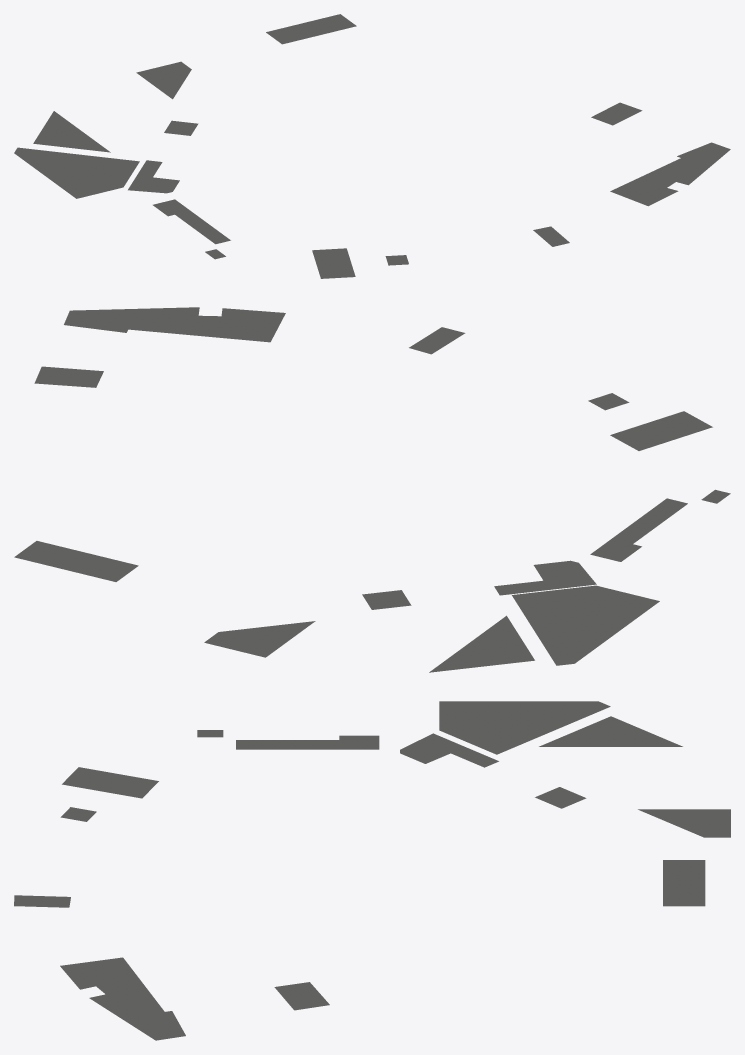
File: kd_stage_135fe0_5_46.glb
The picture shows the model from 3 angles, top to bottom: view 1: azimuth 30°, elevation 25°; view 2: azimuth 150°, elevation 25°; view 3: azimuth 270°, elevation 25°; orthographic projection. The views are drawn at different scales.
Visible parts, largest first — view 1: kd_stage_135fe0_5_46; view 2: kd_stage_135fe0_5_46; view 3: kd_stage_135fe0_5_46.
Boxes of the visible parts, box(x1,y1,x2,y2) form: kd_stage_135fe0_5_46: box(14, 14, 730, 278); kd_stage_135fe0_5_46: box(14, 307, 730, 672); kd_stage_135fe0_5_46: box(14, 701, 730, 1040).
Bounding box in the file's own units: 19.8 × 0.7 × 17.78.
1 material, 1 textured.
